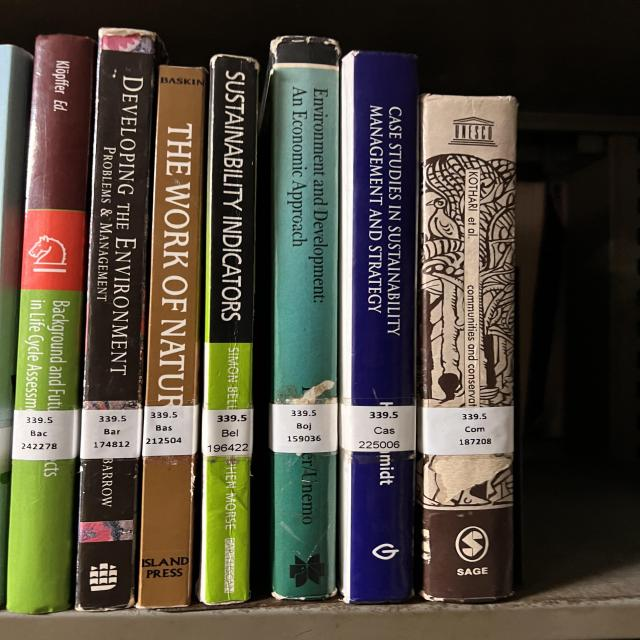Book: (75, 28, 162, 611), (417, 95, 517, 601), (340, 51, 418, 604), (270, 36, 340, 600), (137, 66, 207, 609), (198, 55, 258, 605)
Label: (418, 406, 513, 455), (340, 404, 417, 452), (12, 410, 80, 460), (270, 404, 338, 452), (80, 409, 142, 459), (142, 405, 198, 456), (202, 409, 253, 456)
